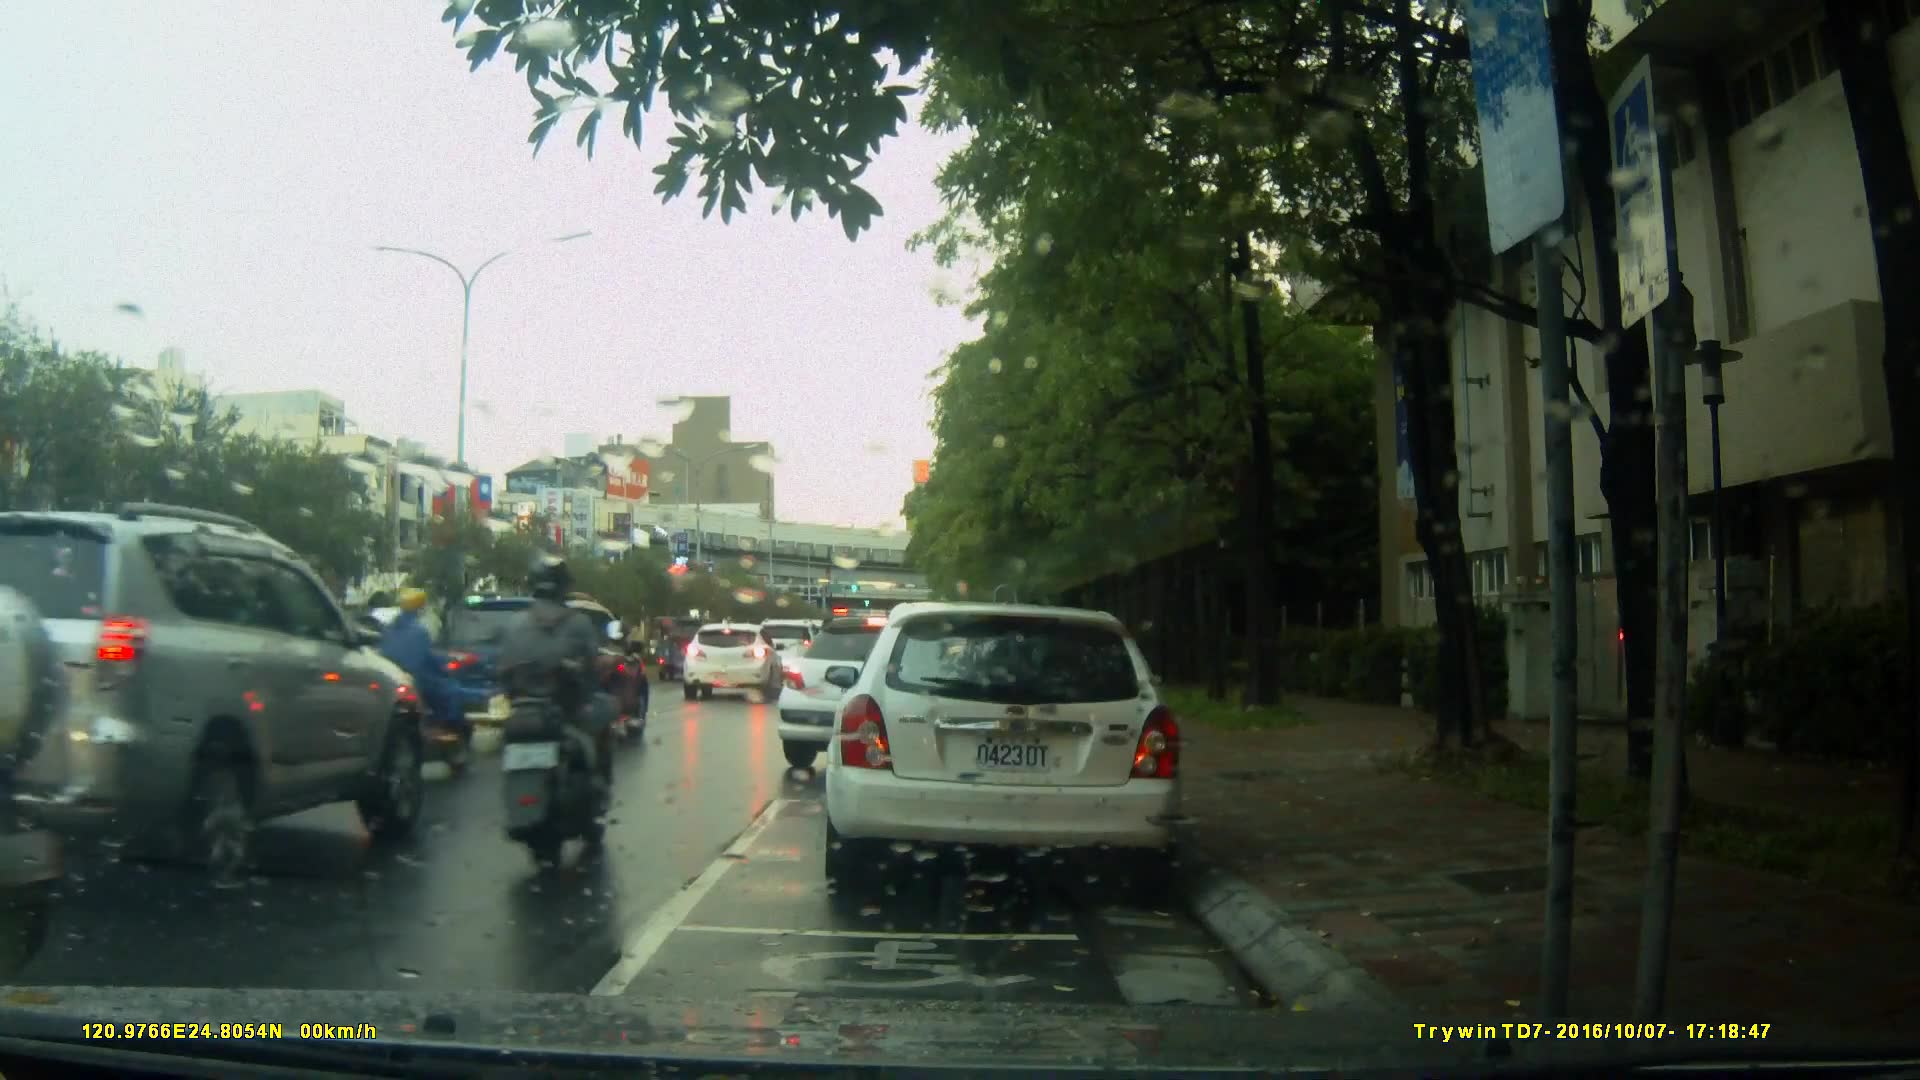rider: (493, 555, 626, 878), (364, 583, 479, 787)
vehicle: (2, 499, 425, 896), (820, 602, 1188, 898), (770, 614, 1042, 780), (434, 589, 656, 752), (684, 622, 784, 701)
